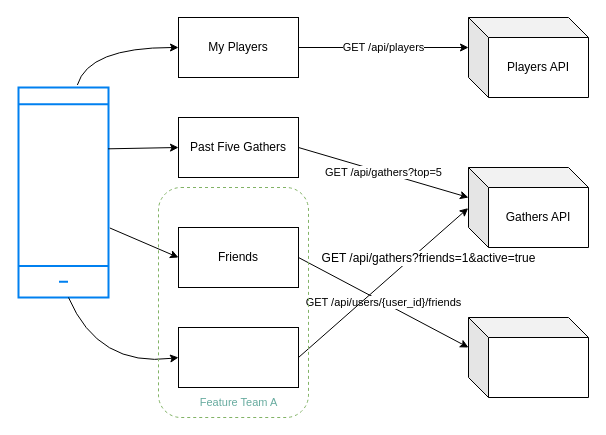
Image size: 606x435. Some labels were removed from this diagram. The shapes that lost their labels are listed below. From the top down, each one's centre as x and y in pixels, then its label:
At [238,357]: "Active Friends Gathers".
At [528,357]: "Users API".
